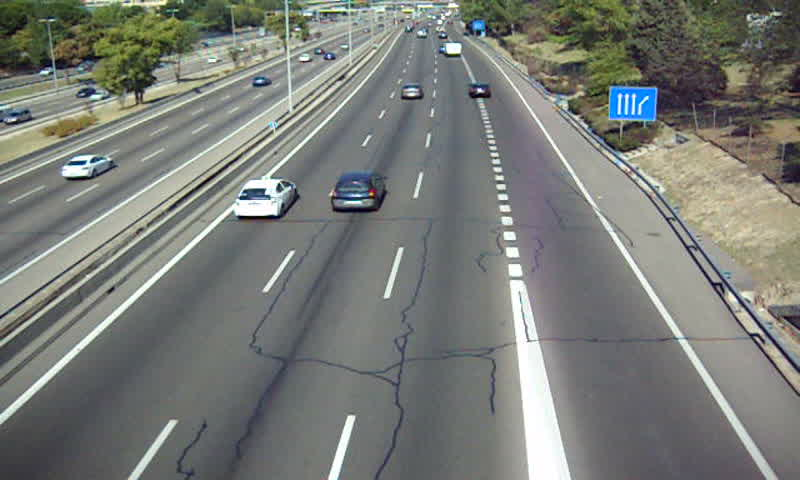car: (234, 178, 297, 218), (331, 172, 386, 213), (400, 82, 424, 100), (467, 83, 491, 97)
van: (444, 43, 463, 55)
